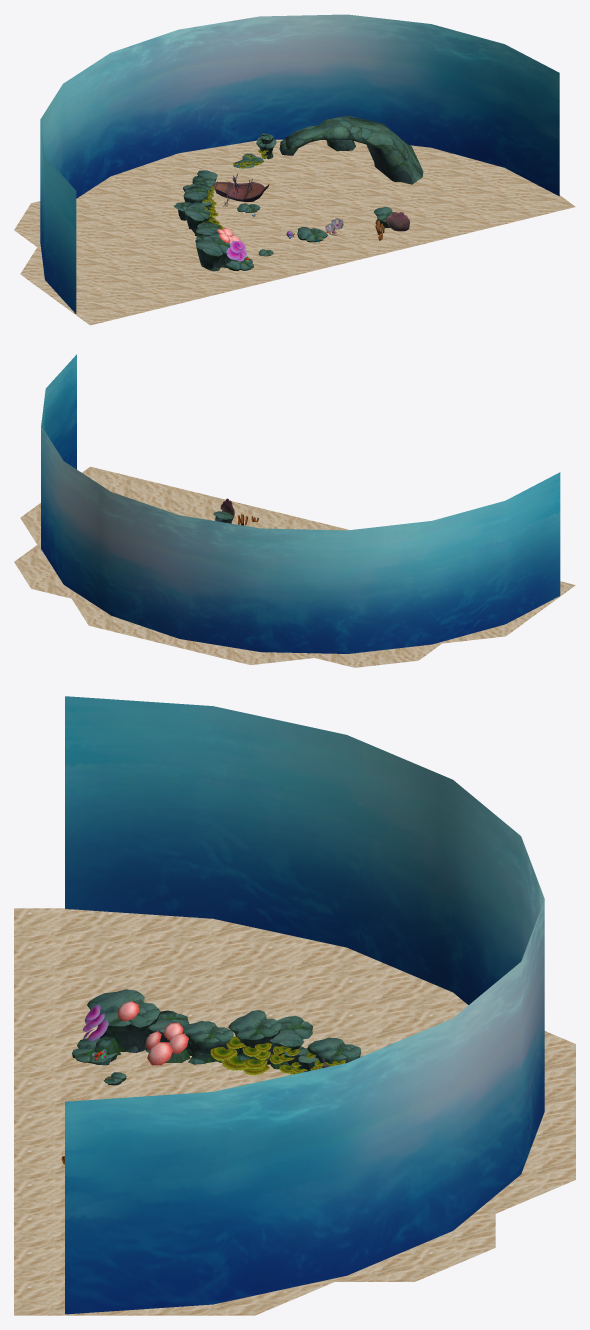
3 views of the same model, one above another, from view 1: azimuth 30°, elevation 25°; view 2: azimuth 150°, elevation 25°; view 3: azimuth 270°, elevation 25° (orthographic). The views are drawn at different scales.
Parts seen in each view (by area): view 1: S_S_SKYBOX_001, S_S_DIBIAO_001, S_S_SHITOU_001, S_S_SHITOU_002, S_S_CHUAN_001, S_S_SHANHU_001; view 2: S_S_SKYBOX_001, S_S_DIBIAO_001; view 3: S_S_SKYBOX_001, S_S_DIBIAO_001, S_S_SHITOU_001, S_S_SHANHU_001, S_S_SHANHU_011.
Part boxes in pixels (<box>): S_S_SKYBOX_001: <box>40,14,559,313</box>; S_S_DIBIAO_001: <box>14,139,575,325</box>; S_S_SHITOU_001: <box>174,133,393,271</box>; S_S_SHITOU_002: <box>279,115,423,184</box>; S_S_CHUAN_001: <box>214,173,269,206</box>; S_S_SHANHU_001: <box>202,150,268,229</box>; S_S_SKYBOX_001: <box>41,354,560,653</box>; S_S_DIBIAO_001: <box>14,466,575,667</box>; S_S_SKYBOX_001: <box>65,696,544,1314</box>; S_S_DIBIAO_001: <box>14,908,575,1315</box>; S_S_SHITOU_001: <box>72,989,361,1085</box>; S_S_SHANHU_001: <box>210,1036,345,1075</box>; S_S_SHANHU_011: <box>117,1001,188,1065</box>.
Size of the model in its own units: 2541 by 692 by 1481.
